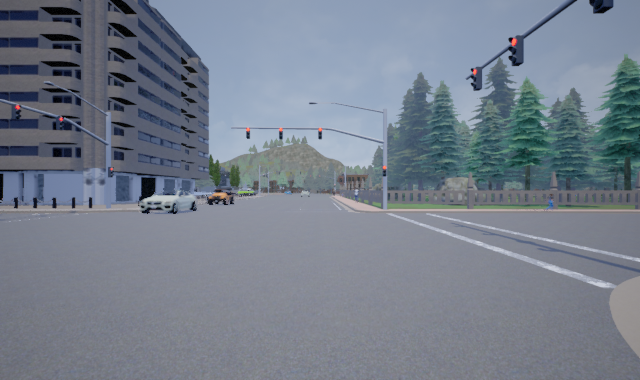pedestrian: (543, 191, 555, 211), (353, 185, 360, 203)
vehicle: (136, 189, 200, 215), (206, 187, 234, 206), (237, 187, 254, 197)
